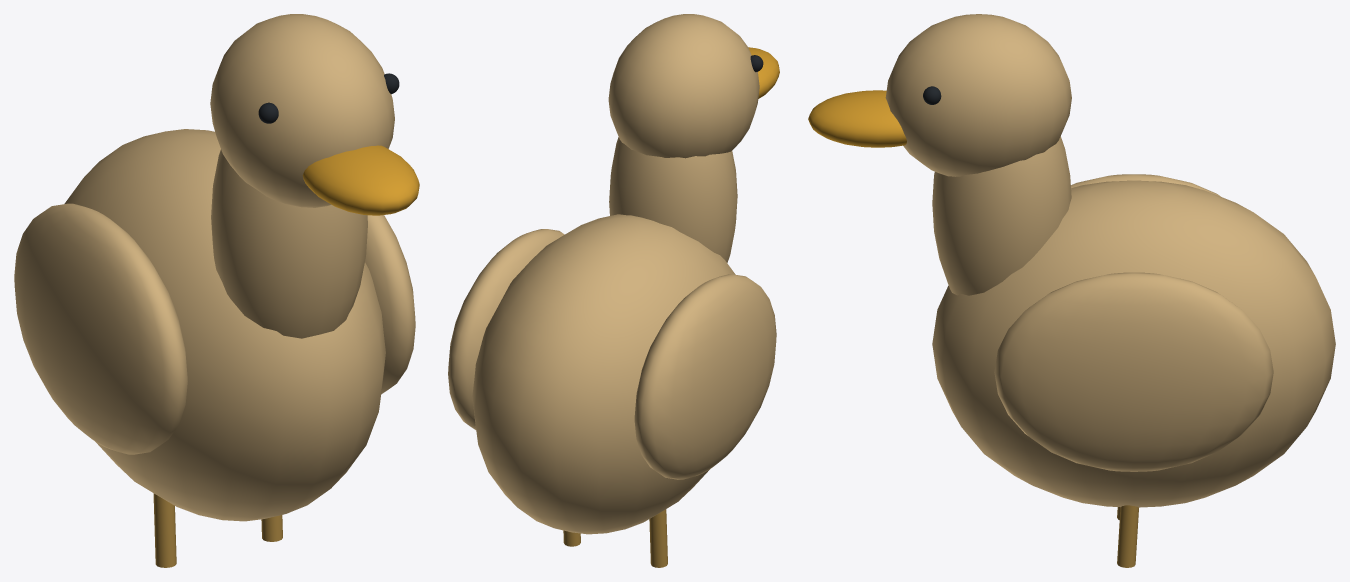
File: pet-24.glb
The picture shows the model from 3 angles, left to right: view 1: azimuth 30°, elevation 25°; view 2: azimuth 150°, elevation 25°; view 3: azimuth 270°, elevation 25°; orthographic projection. The views are drawn at different scales.
Visible parts, largest first — view 1: body, wing (×2), head, neck, beak, leg (×2); view 2: body, wing (×2), head, neck, leg, beak; view 3: body, wing (×2), head, neck, beak, leg.
Boxes of the visible parts, x1,y1,x2,y2 form: body: (64,129,385,521); wing (×2): (14,203,415,454); head: (210,14,394,207); neck: (211,149,367,338); beak: (302,145,419,215); leg (×2): (153,493,282,567); body: (472,214,735,534); wing (×2): (448,229,776,479); head: (608,14,759,158); neck: (609,137,737,262); leg: (649,509,667,567); beak: (748,47,779,98); body: (932,180,1335,507); wing (×2): (994,174,1273,471); head: (885,14,1071,176); neck: (932,136,1071,295); beak: (808,90,906,147); leg: (1117,505,1138,567).
Size of the model in its own units: 0.4 by 0.7407 by 0.68.
